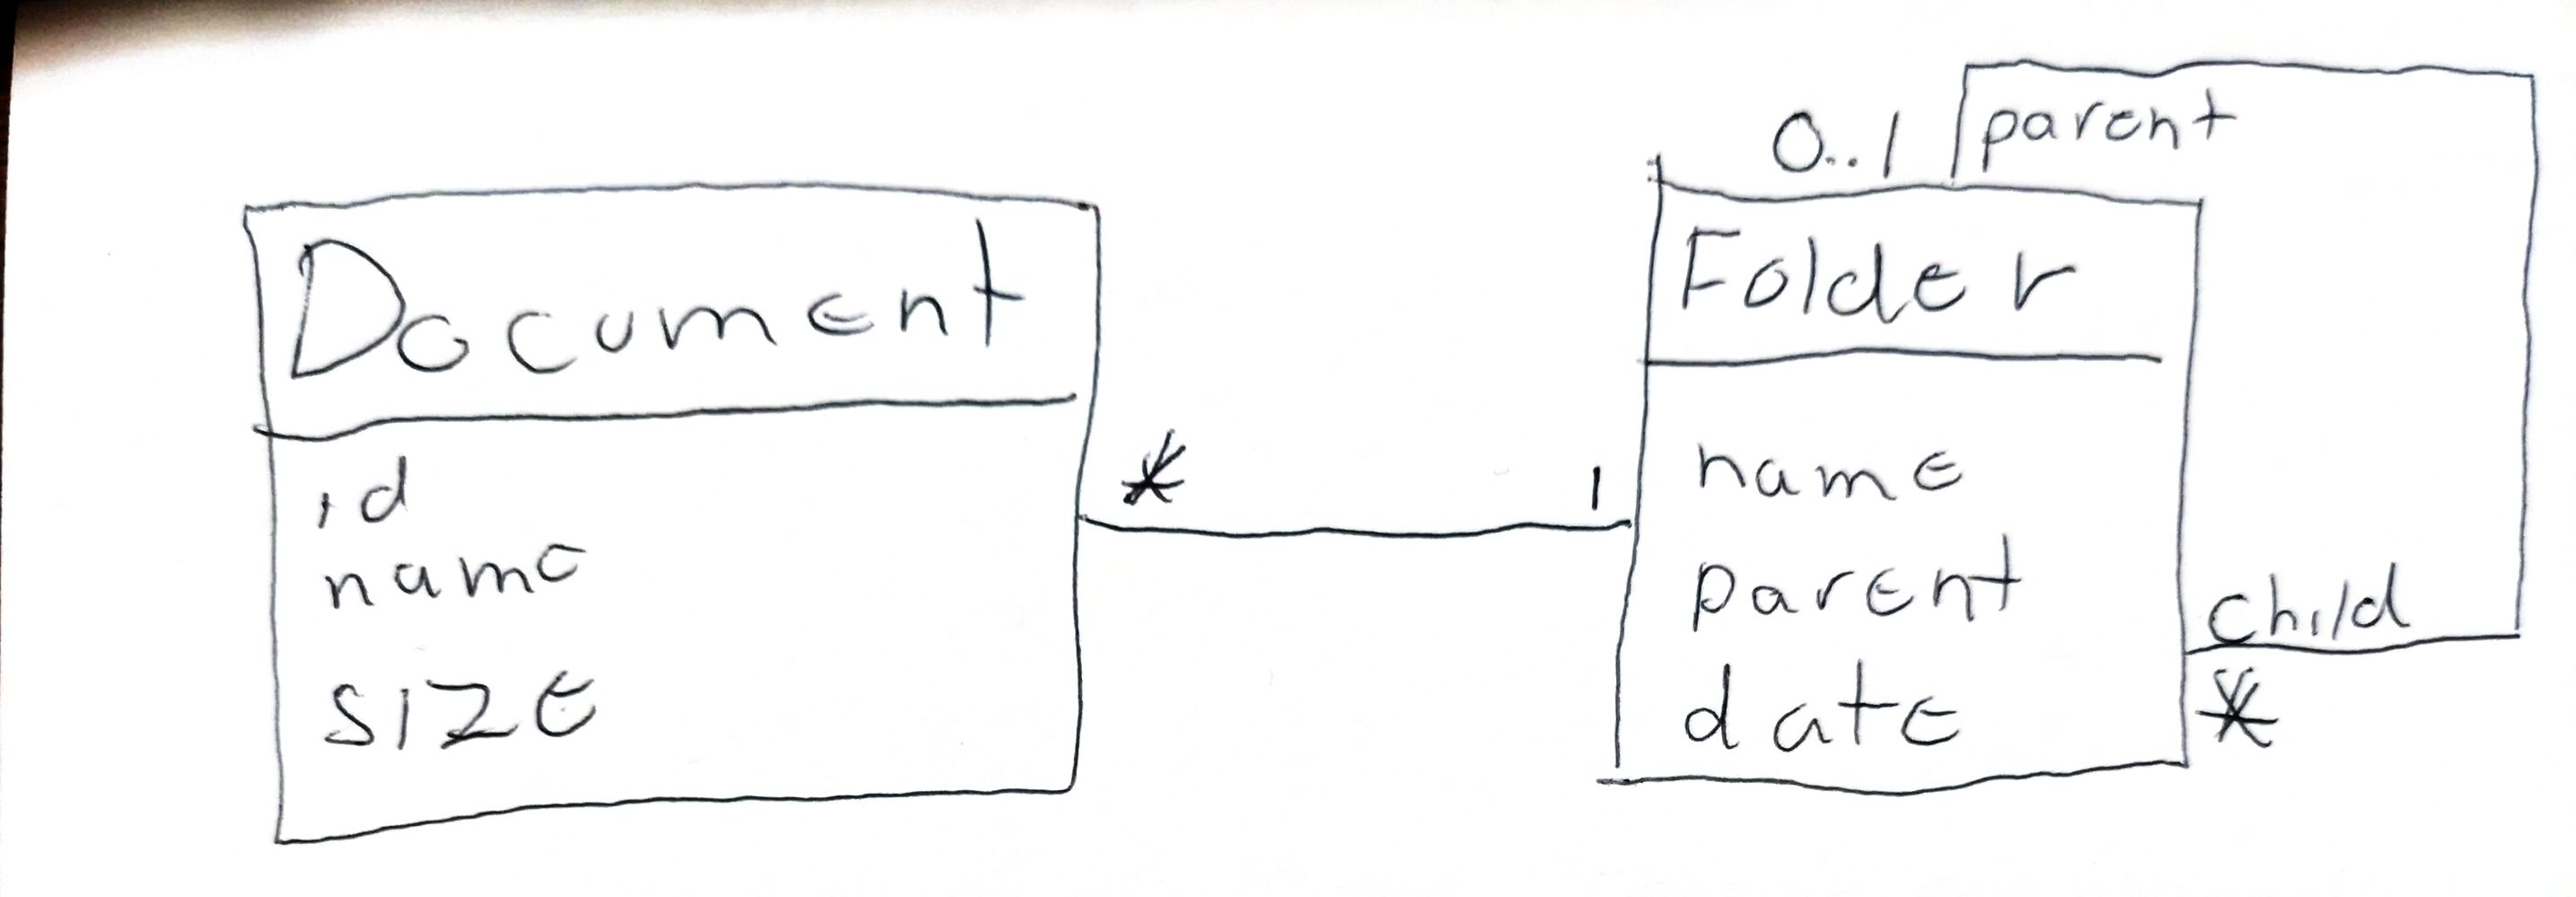association: (1777, 42, 2545, 759), (1070, 418, 1639, 575)
class attributes: (236, 171, 1113, 850), (1611, 179, 2211, 791)
